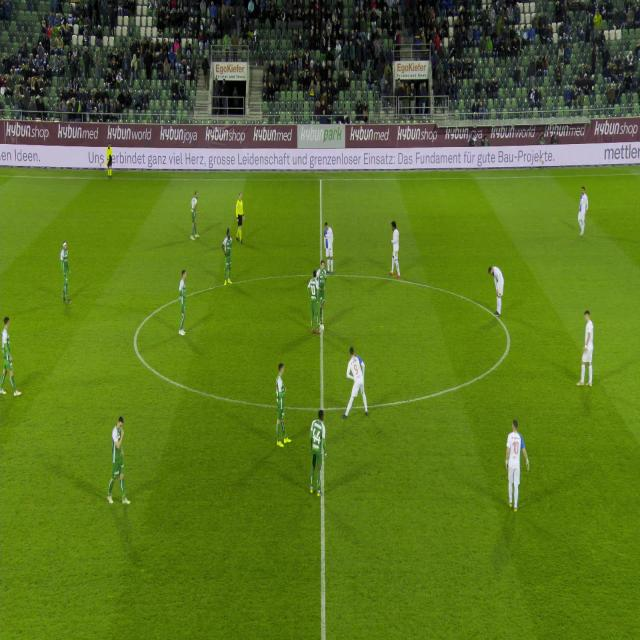Ball: (318, 319, 326, 337)
Player: (496, 409, 535, 521), (340, 341, 376, 422), (106, 414, 136, 506), (572, 304, 604, 389), (0, 300, 24, 411), (304, 404, 331, 502), (54, 232, 80, 312), (271, 362, 293, 451), (486, 250, 511, 326), (217, 219, 241, 290), (174, 264, 193, 344), (571, 178, 593, 247), (185, 184, 206, 246), (321, 222, 344, 278), (387, 215, 402, 292), (315, 255, 331, 320), (305, 270, 320, 325)
Referee: (232, 184, 254, 258), (104, 132, 118, 186)
